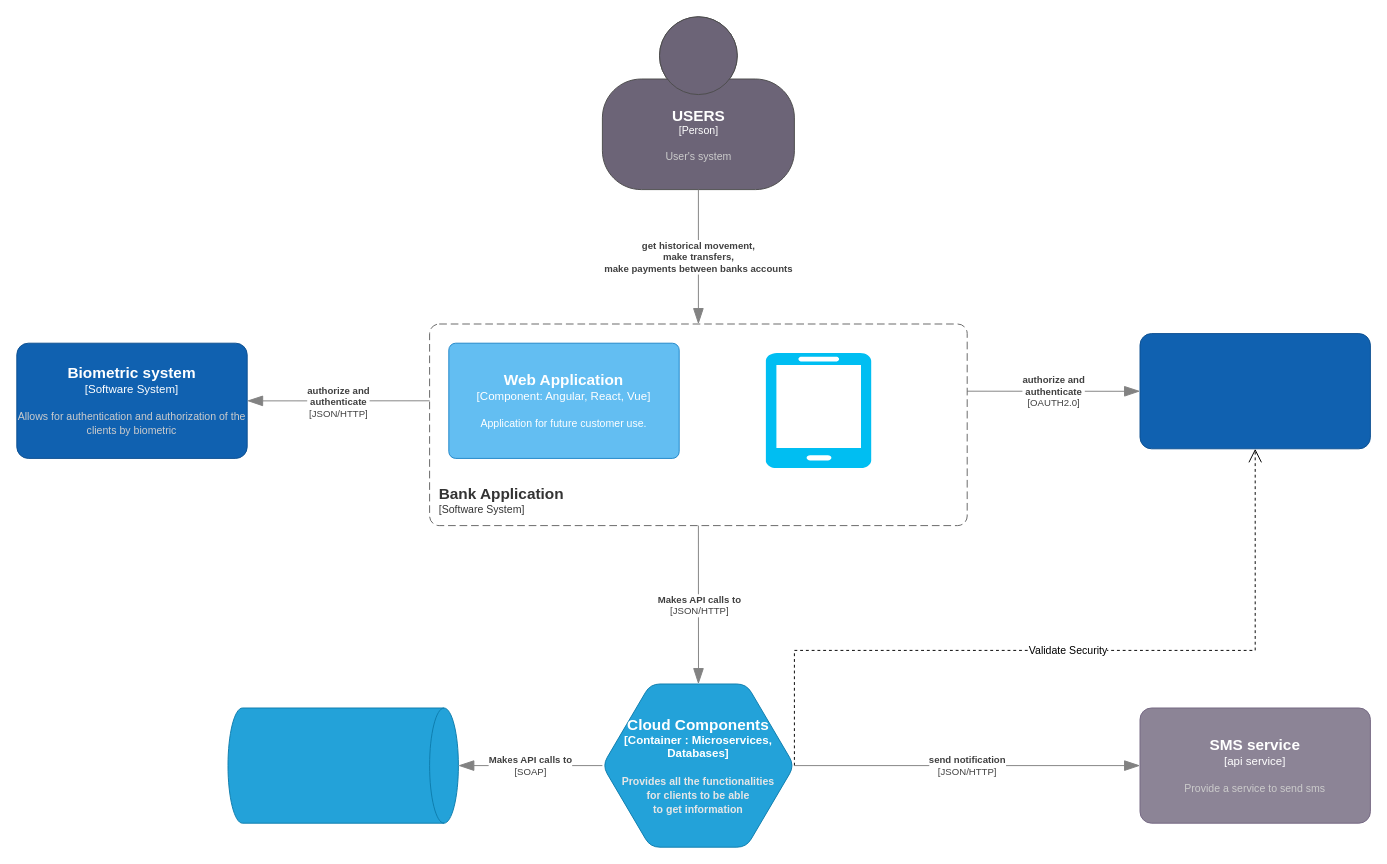
Some shapes in this 1387 by 864 pixel diagram are drawn without their labels. The box of each missing label's shape, as (x1, y1, x2, y2) in pixels:
Core [Container : service bus] core bank that provide client's information: (227, 707, 458, 823)
MOBILE APLICATION: (765, 352, 871, 468)
SSO [Software System] Allows for authentication and authorization of the clients: (1139, 333, 1370, 449)
